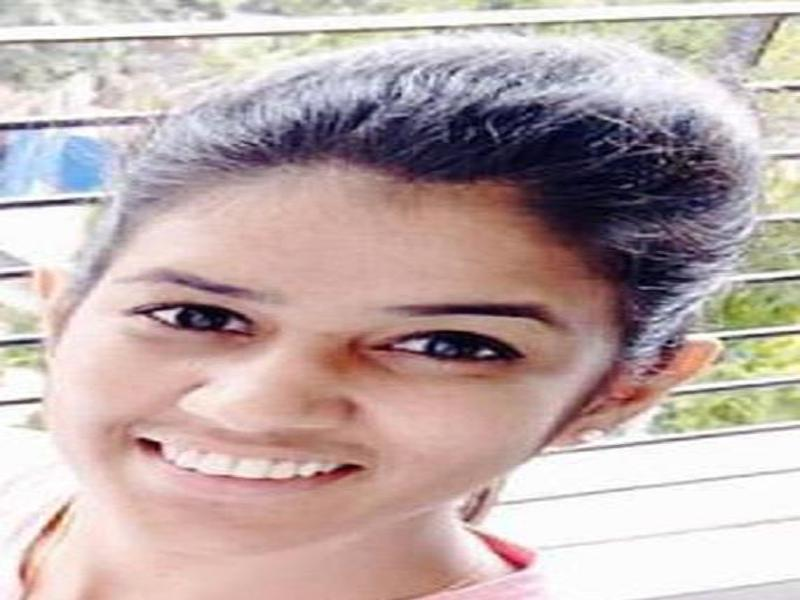without_mask: (45, 166, 606, 560)
